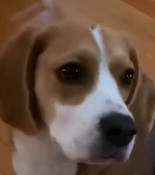Dog: (6, 35, 150, 165)
